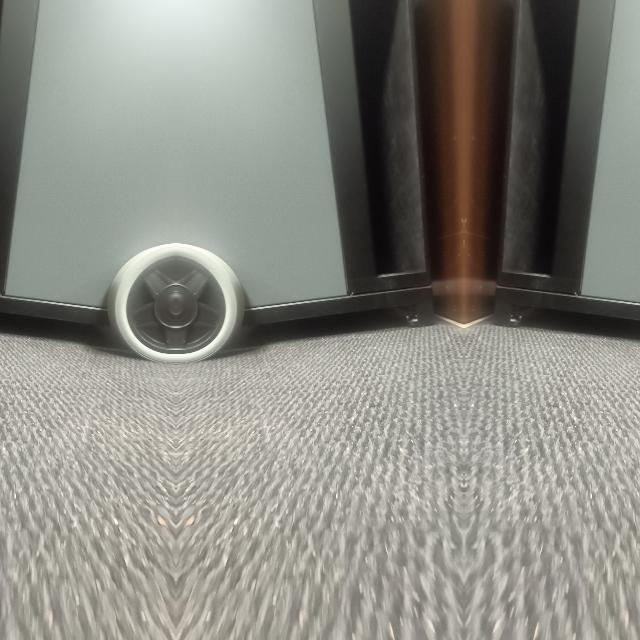obstacle: (178, 9, 444, 359), (0, 9, 172, 359), (482, 9, 640, 359)
